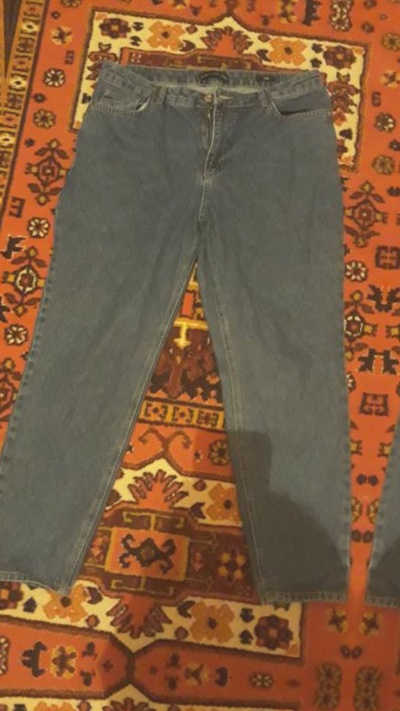Pants: (0, 38, 400, 645), (352, 73, 400, 679), (0, 699, 344, 711)
